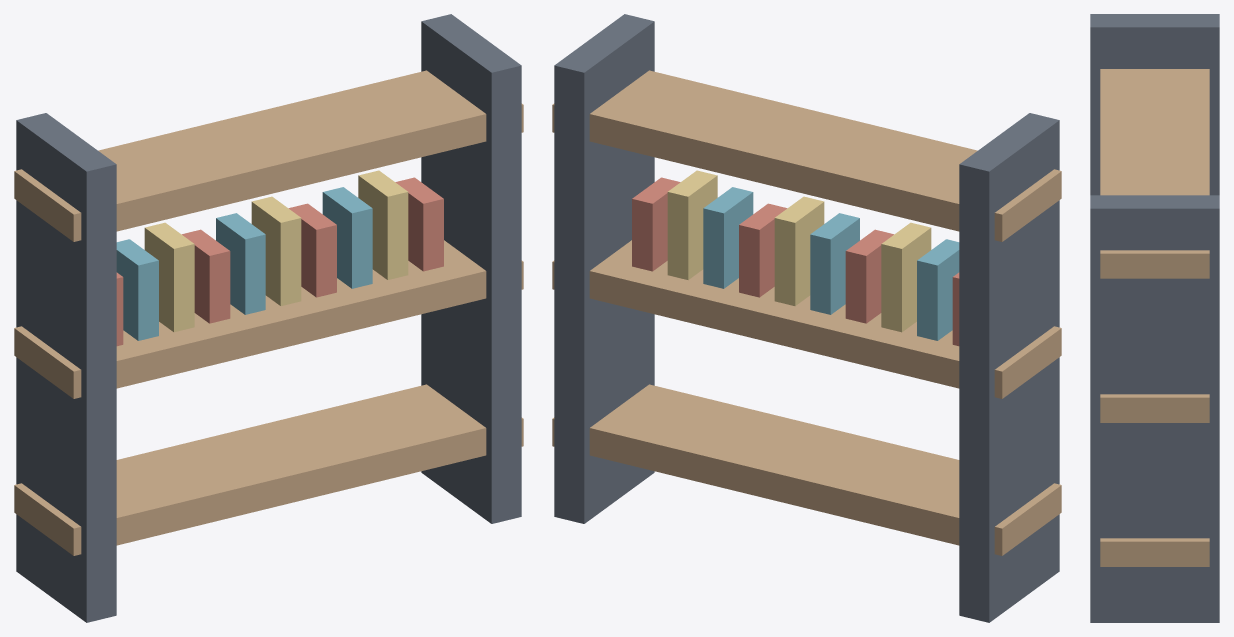
File: book-display.glb
3 renders of one model, left to right at view 1: azimuth 30°, elevation 25°; view 2: azimuth 150°, elevation 25°; view 3: azimuth 270°, elevation 25°, orthographic. The views are drawn at different scales.
Visible parts, largest first — view 1: world; view 2: world; view 3: world.
Boxes of the visible parts, x1=… form: world: x1=14, y1=14, x2=523, y2=622; world: x1=552, y1=14, x2=1061, y2=622; world: x1=1090, y1=14, x2=1219, y2=622.
Size of the model in its own units: 2.4 by 2.3 by 0.65.
